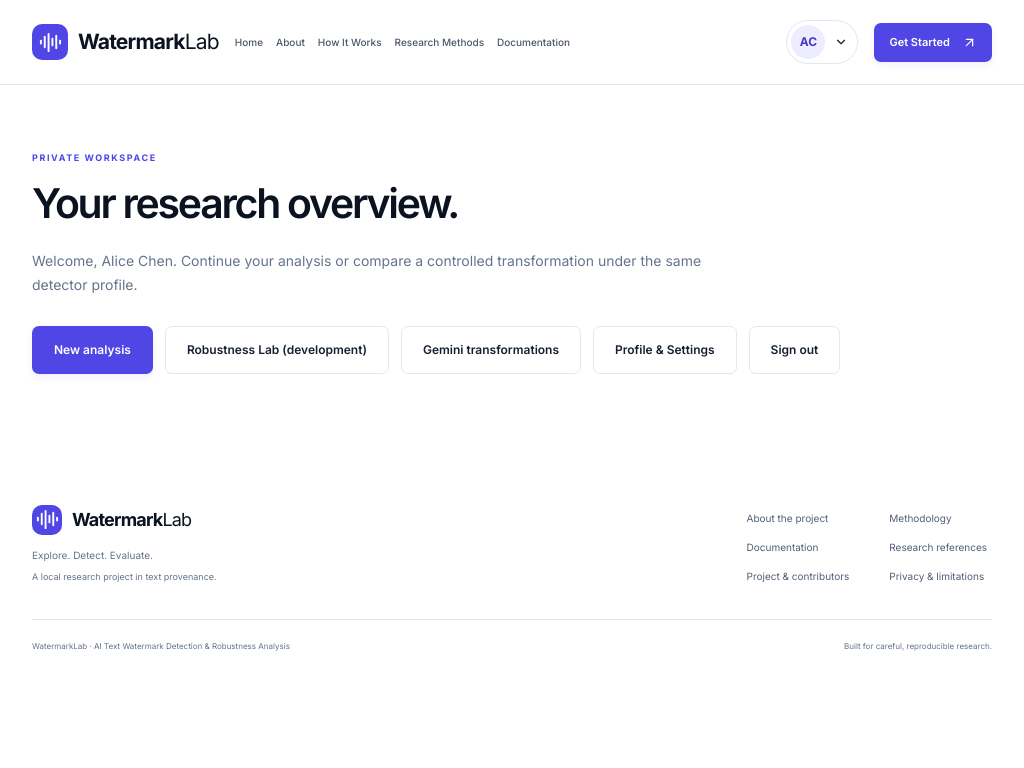
Test: logout failure remains visible and does not pretend the session ended
The width and height of the screenshot is (1024, 768).
Click the button with aria-label "Account menu": [822, 42] box x1=786 y1=20 x2=858 y2=64
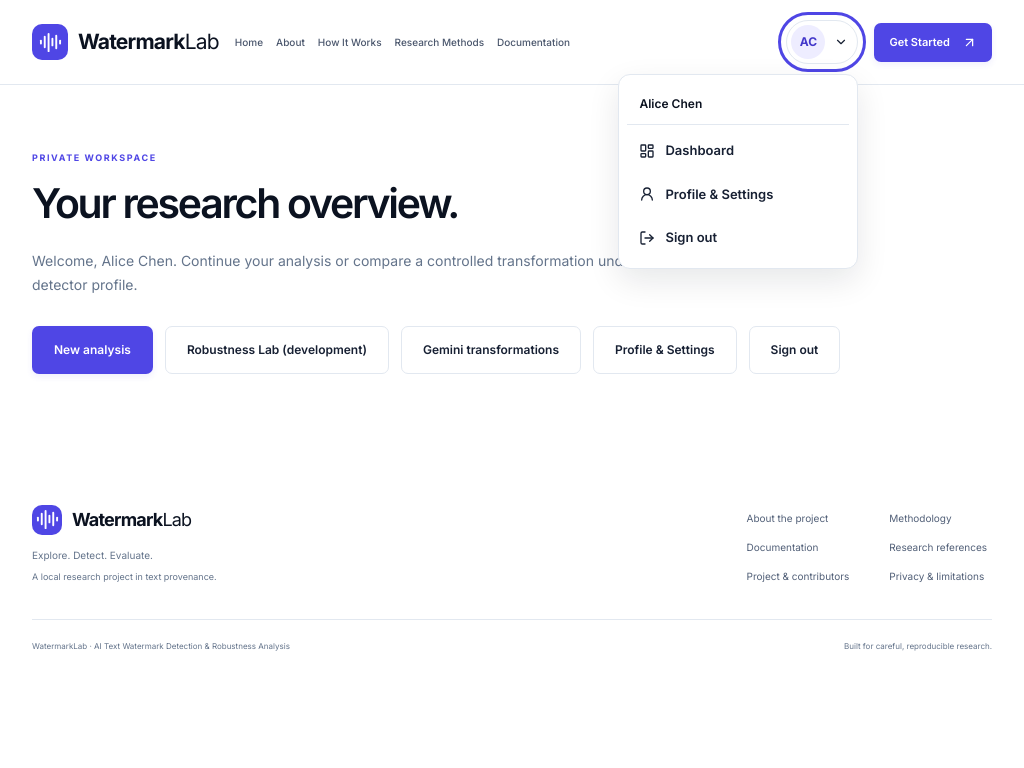
Click the button "Sign out" below "Dashboard": [738, 238] box x1=628 y1=216 x2=850 y2=260
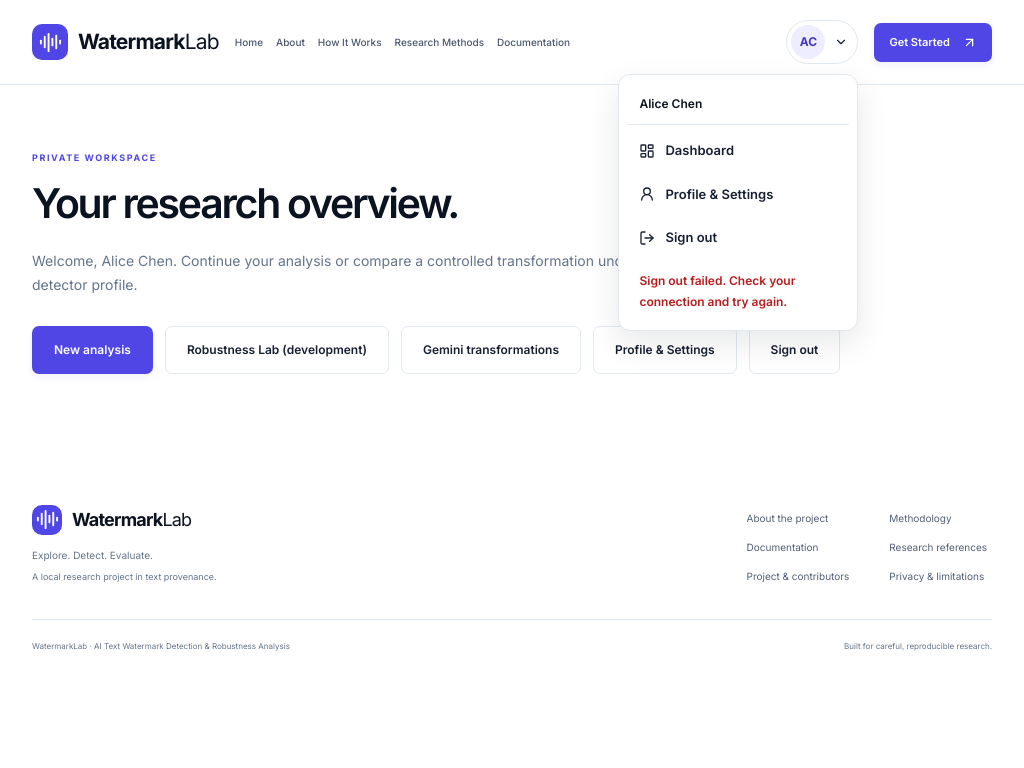
Expected: the heading "Your research overview." is shown, x1=32 y1=178 x2=458 y2=228
Now the message shows "Sign out failed", box x1=640 y1=272 x2=795 y2=308
